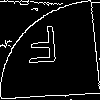F: (24, 25, 60, 74)
